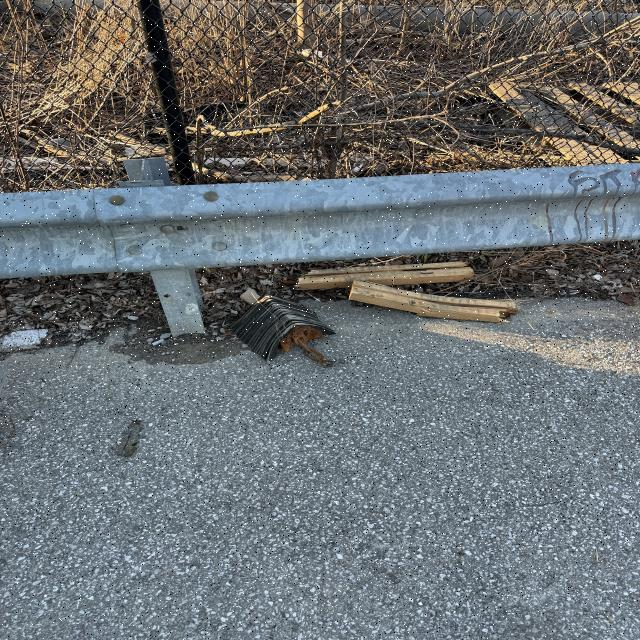Guard rail: (18, 167, 636, 268)
